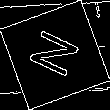N_SE: (23, 26, 87, 84)
